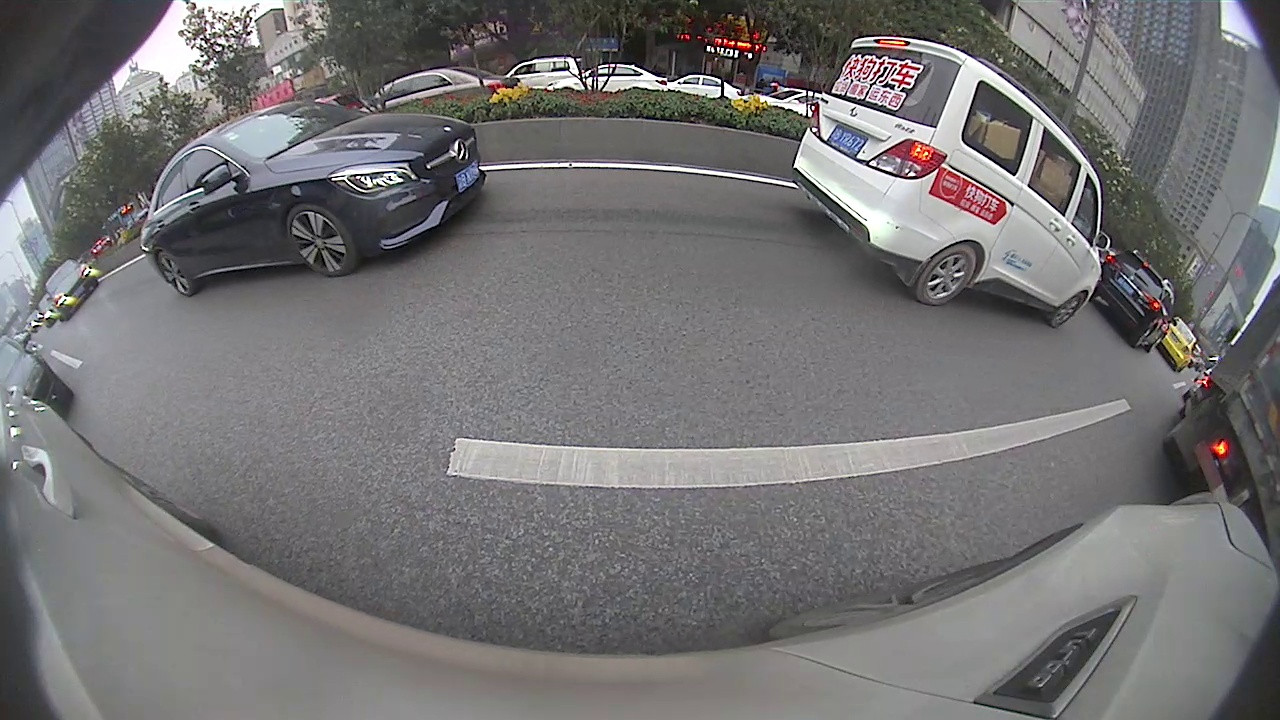car: (791, 33, 1102, 326), (138, 97, 488, 300), (1090, 249, 1172, 353), (47, 260, 100, 322), (1155, 319, 1199, 372)
front: (288, 205, 355, 277), (1050, 290, 1086, 328)
rear: (918, 245, 979, 306), (153, 251, 193, 297)
